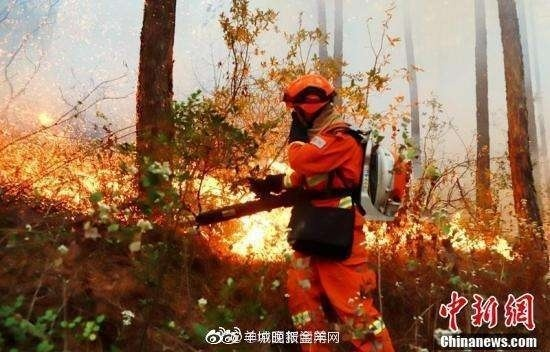fire: (188, 157, 293, 260)
